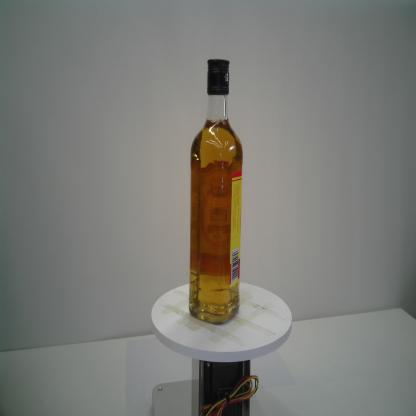Seasoner: (186, 57, 245, 327)
